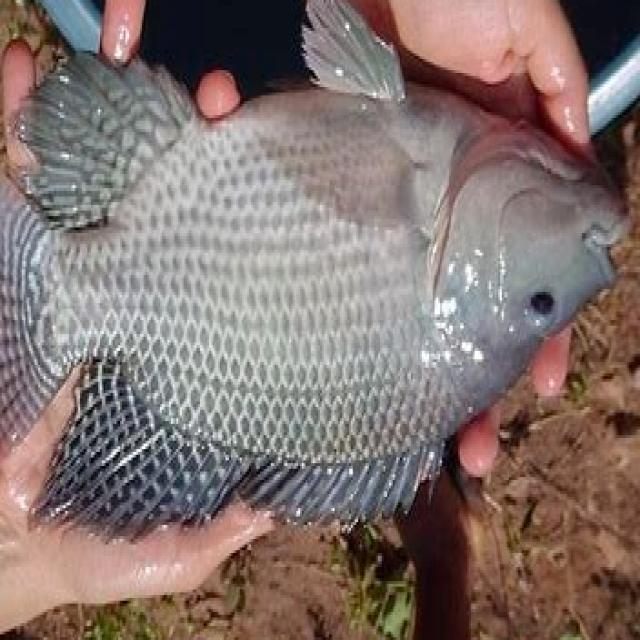Tilapia: (0, 0, 626, 545)
